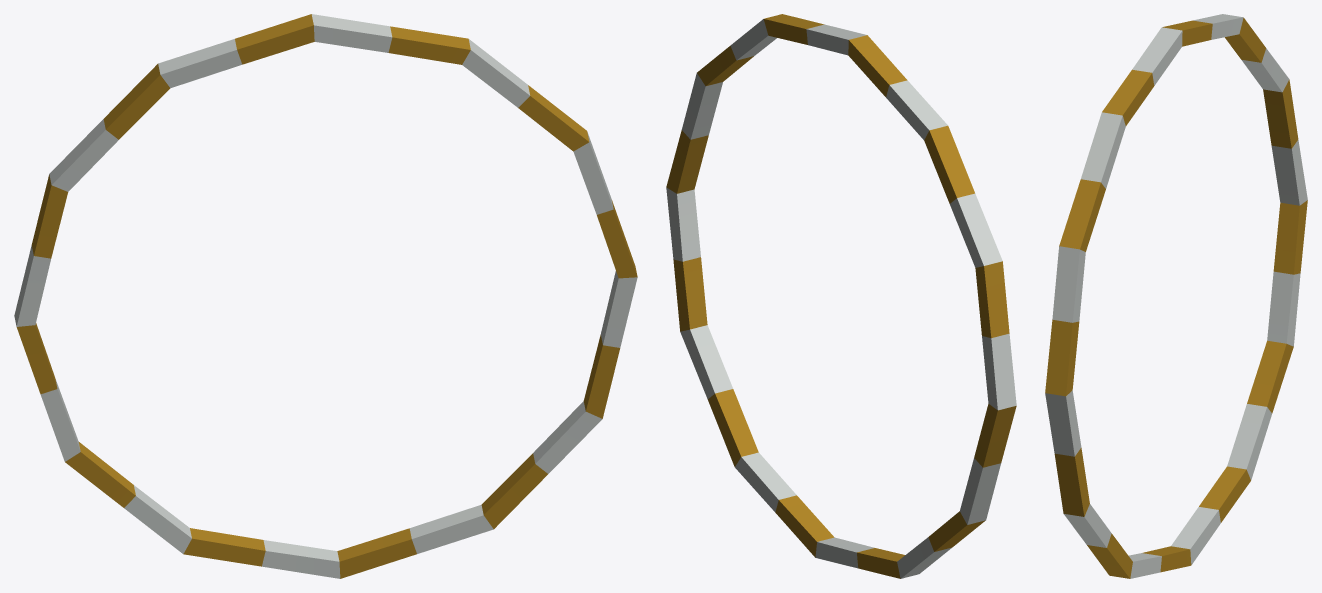
Rendered from ring 2.fbx.
3 renders of one model, left to right at view 1: azimuth 30°, elevation 25°; view 2: azimuth 150°, elevation 25°; view 3: azimuth 270°, elevation 25°, orthographic. The views are drawn at different scales.
Parts seen in each view (by area): view 1: SM_Prop_Plane_Ring_01__2_; view 2: SM_Prop_Plane_Ring_01__2_; view 3: SM_Prop_Plane_Ring_01__2_.
Part boxes in pixels (left/top/right/bottom): SM_Prop_Plane_Ring_01__2_: left=14, top=14, right=637, bottom=578; SM_Prop_Plane_Ring_01__2_: left=666, top=14, right=1016, bottom=578; SM_Prop_Plane_Ring_01__2_: left=1045, top=14, right=1307, bottom=578.
Size of the model in its own units: 1604 by 1738 by 793.
Materials: 1 (1 with a texture image).
